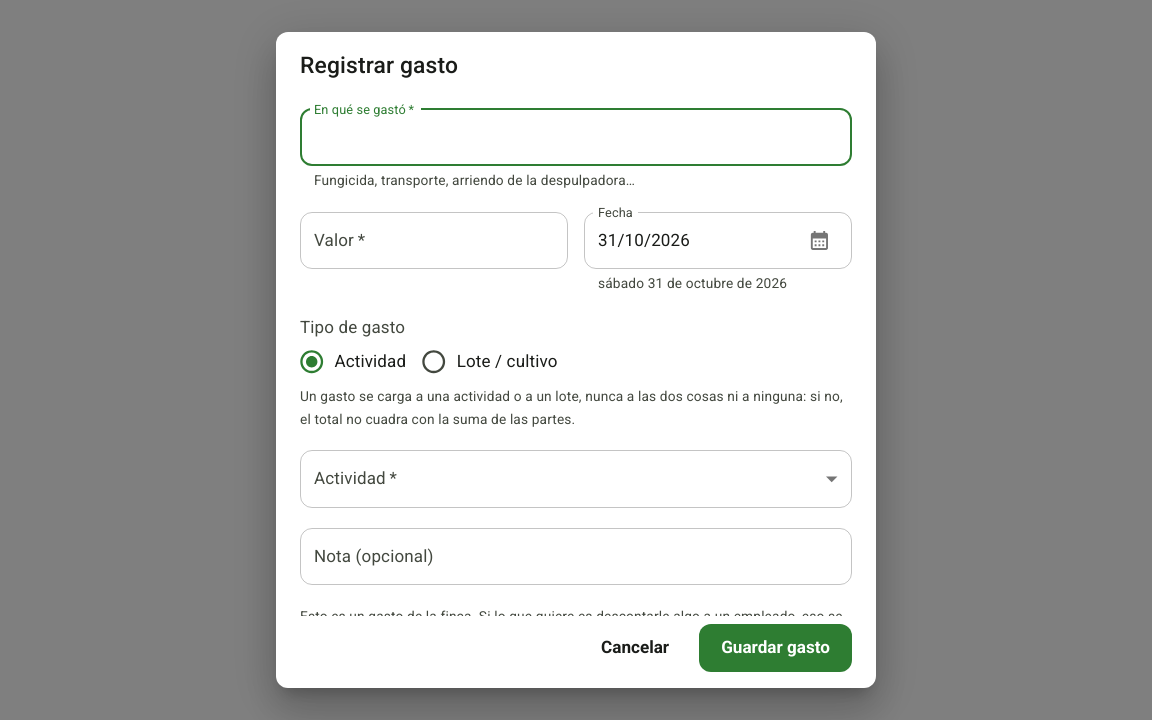
ExpenseFormDialog › shows the server's refusal and stays open
In the field labelled "En qué se gastó *": point(576, 137) [300,109,852,166], type "Transporte"
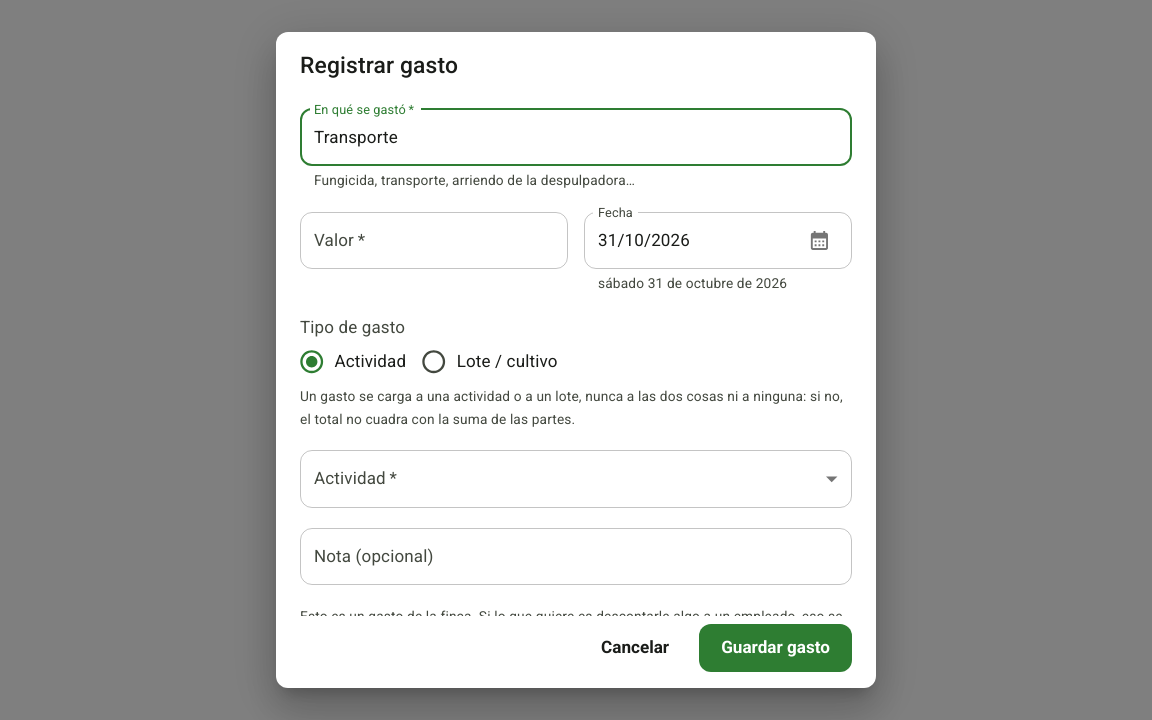
In the field labelled "Valor *": point(434, 240) [300,212,568,269], type "1000"
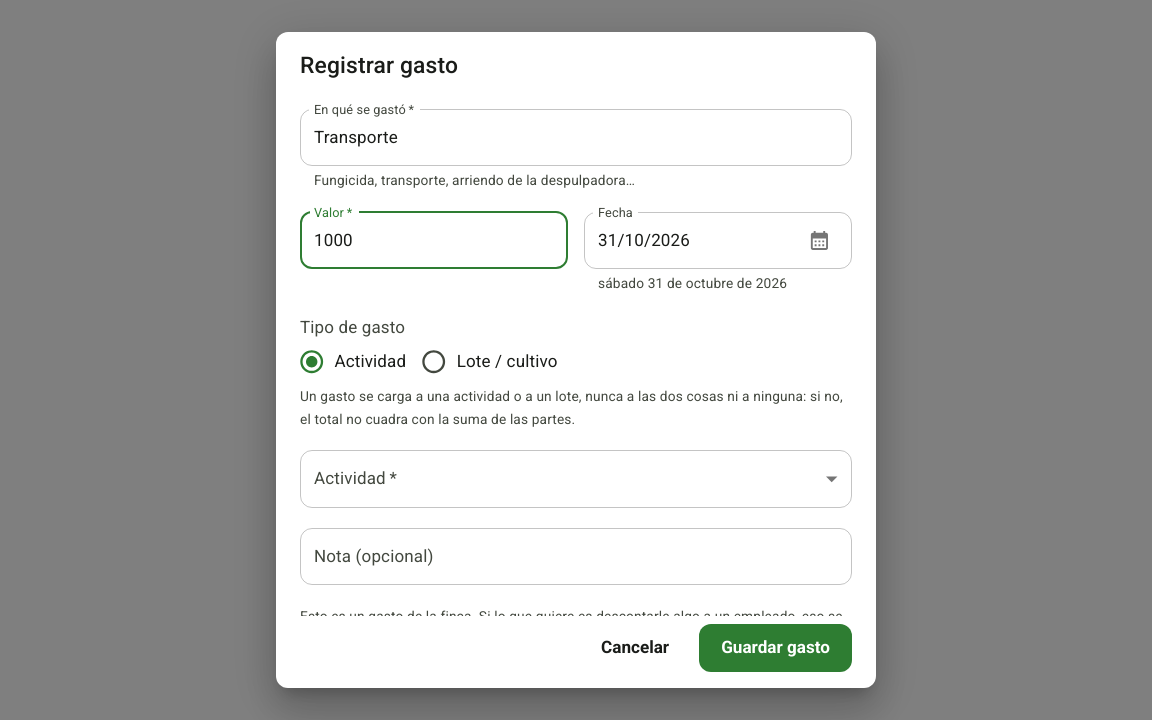
Click the dropdown: point(576, 479) [300,450,852,508]
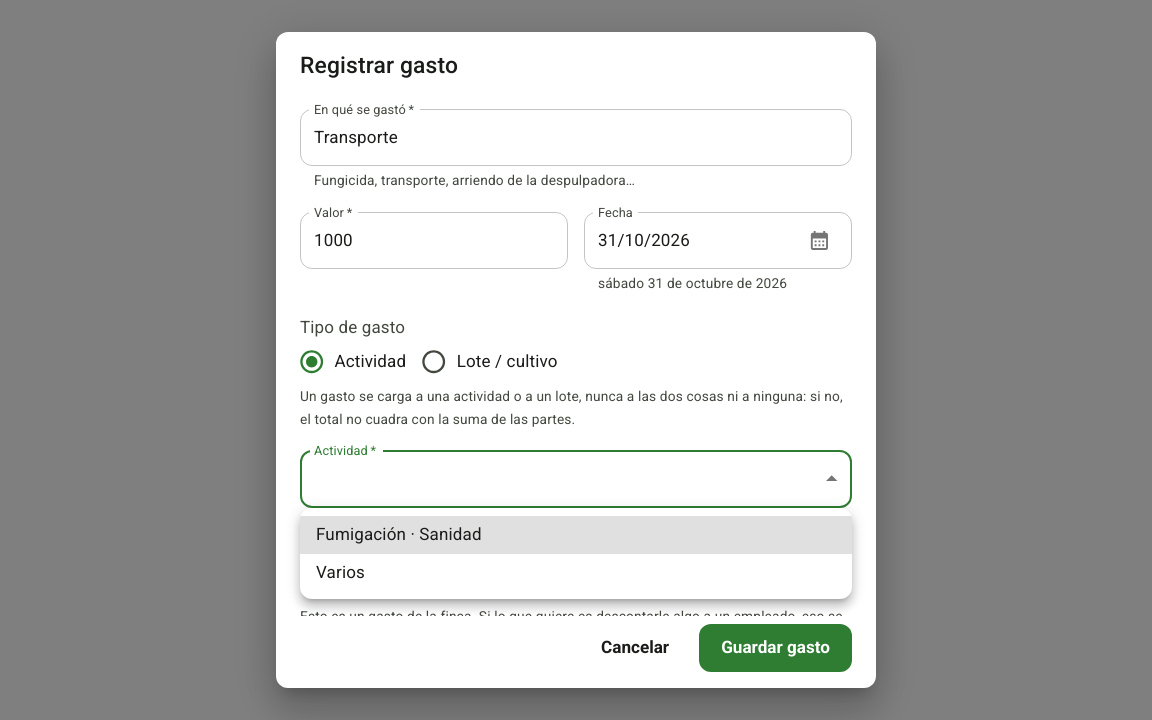
Click the option "Fumigación · Sanidad": point(361, 534) [300,516,852,554]
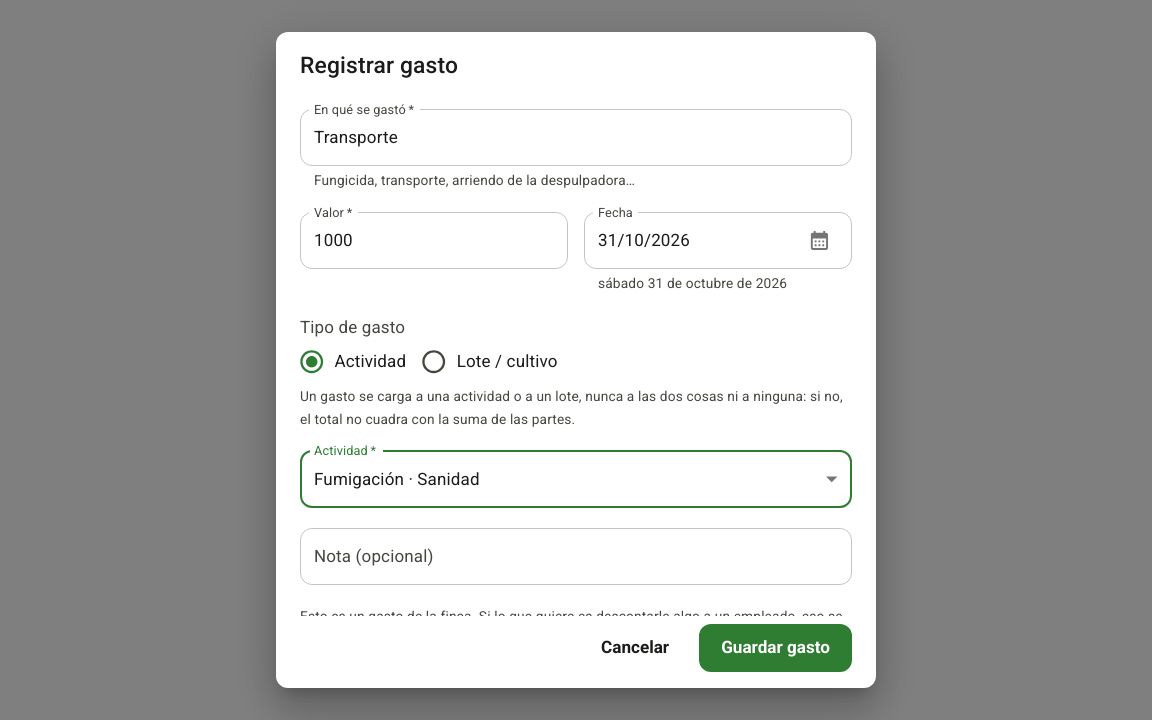
Click the button "Guardar gasto": point(776, 648) [699,624,852,672]
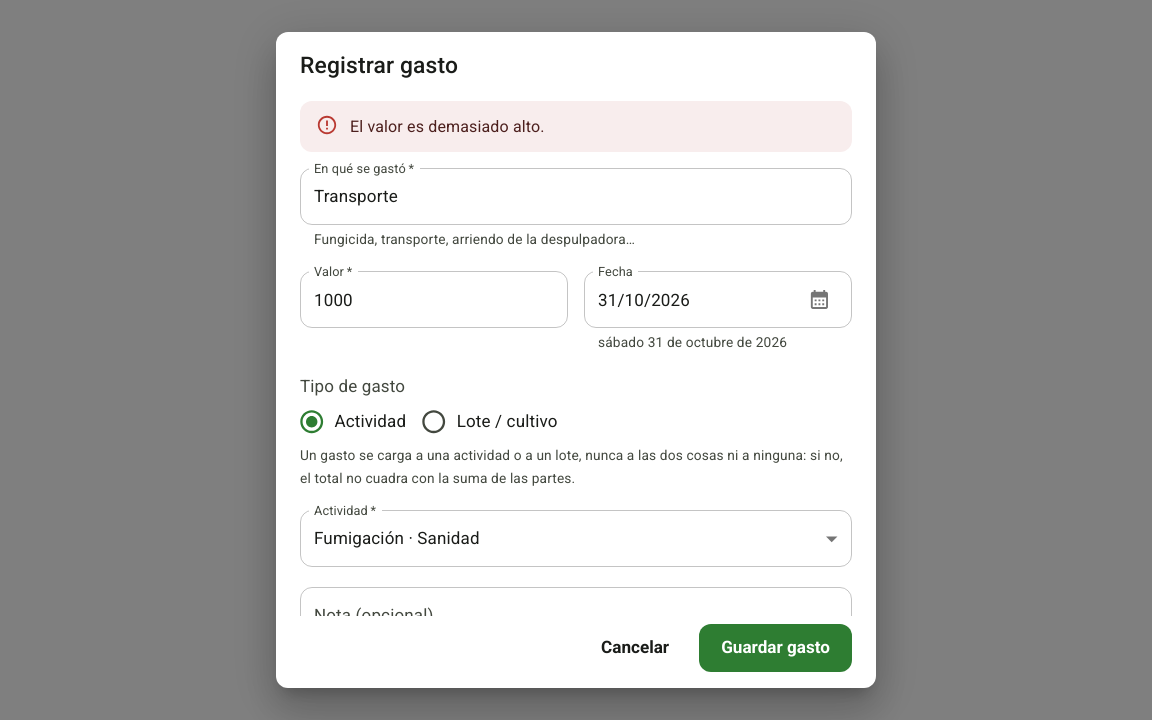
Expected: the dialog is shown, [276,32,876,688]
Expected: the message reads "El valor es demasiado alto.", [350,117,545,136]
